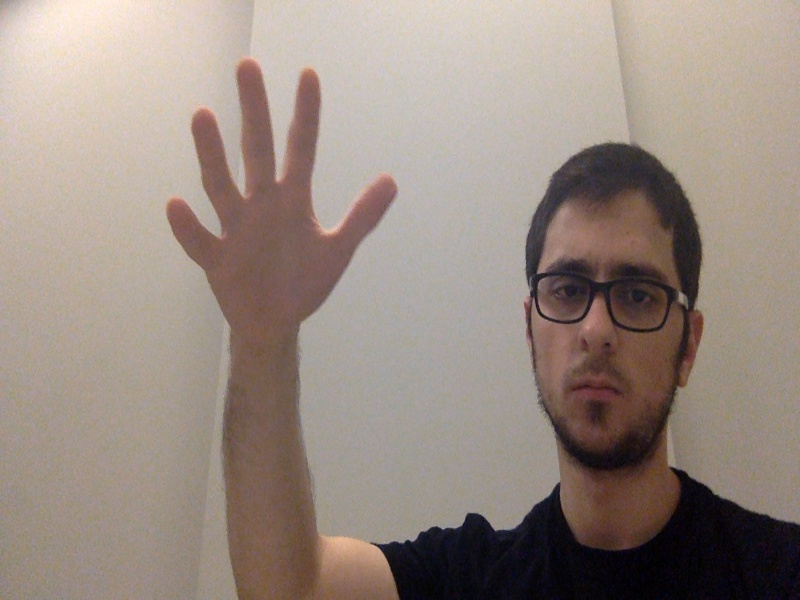5-hand: (162, 56, 401, 335)
